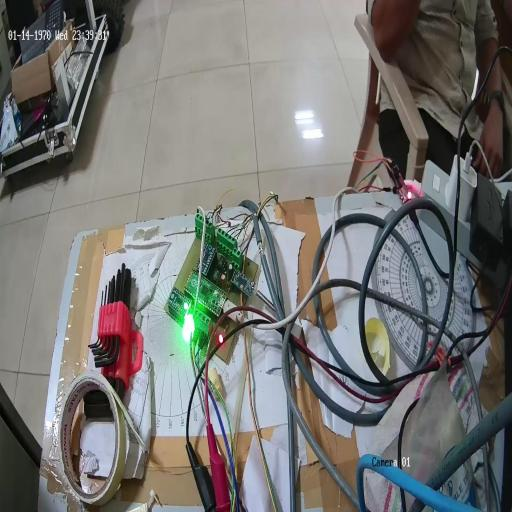laser: (180, 309, 197, 344)
